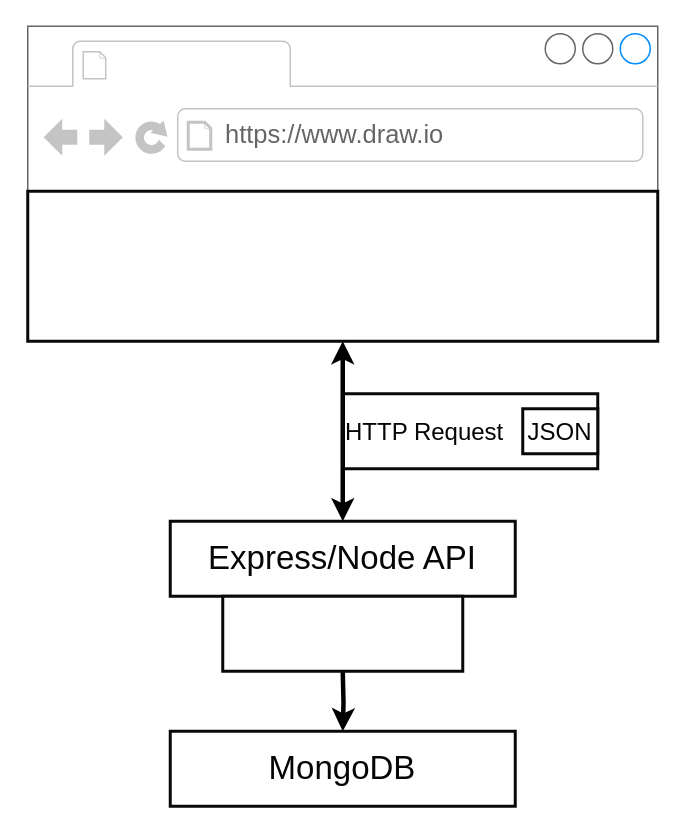
Some shapes in this 684 by 834 pixel diagram are drawn without their labels. The centre of each missing label's shape, as x and y in pixels:
"mongoose.js" belongs at (x=342, y=633).
"Page 1" belongs at (x=199, y=63).
"React App!" belongs at (x=342, y=265).
